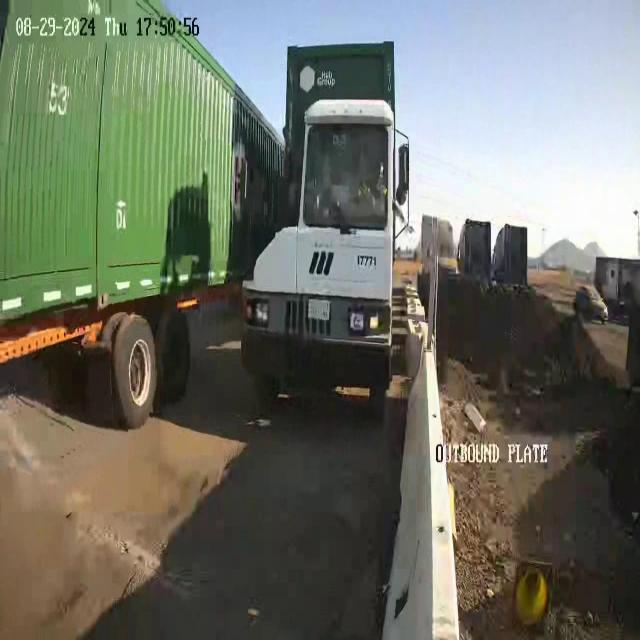TRUCK_IN: (0, 0, 231, 425)
TRUCK_OUT: (236, 26, 416, 433)
